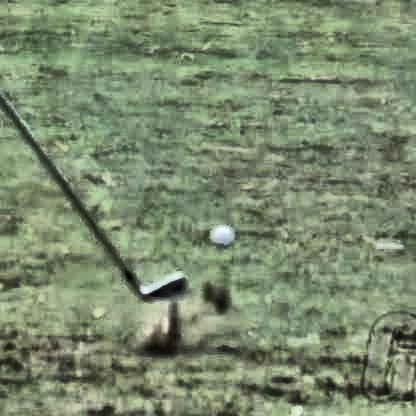golfball: (206, 221, 231, 245)
